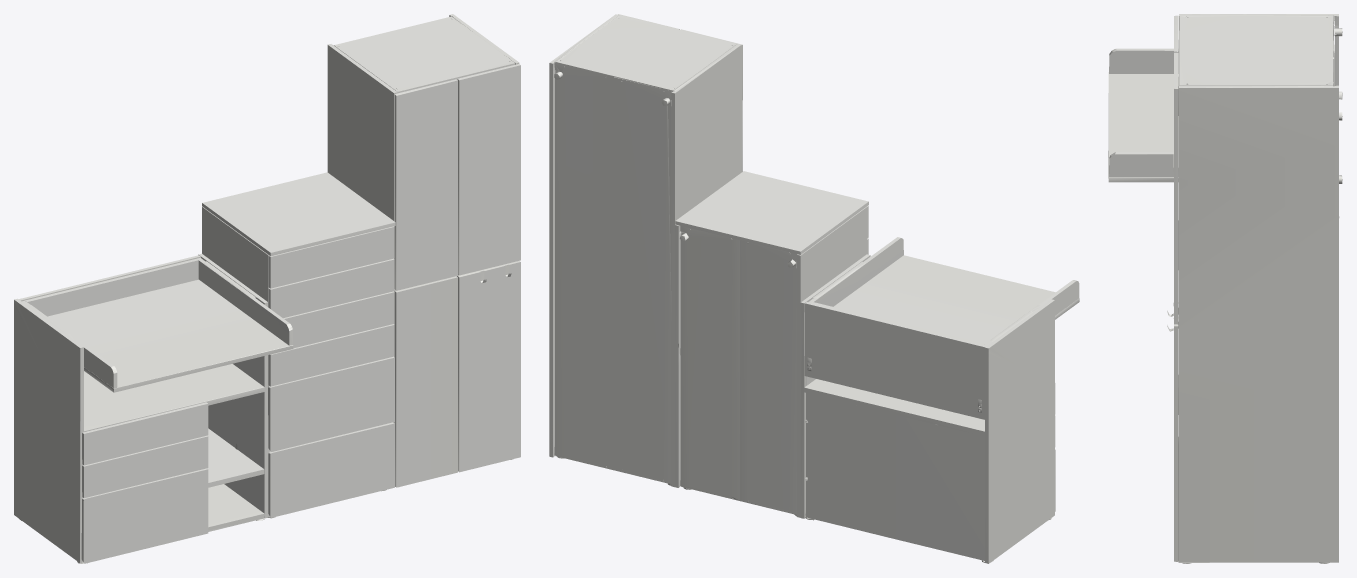
3 views of the same model, side by side, from view 1: azimuth 30°, elevation 25°; view 2: azimuth 150°, elevation 25°; view 3: azimuth 270°, elevation 25° (orthographic). The views are drawn at different scales.
Parts seen in each view (by area): view 1: Mesh_0; view 2: Mesh_0; view 3: Mesh_0.
Part boxes in pixels (x1=…): Mesh_0: x1=14, y1=14, x2=520, y2=563; Mesh_0: x1=549, y1=14, x2=1079, y2=563; Mesh_0: x1=1108, y1=14, x2=1342, y2=563.
Size of the model in its own units: 2.1 by 1.81 by 0.8034.
1 material, 1 textured.
